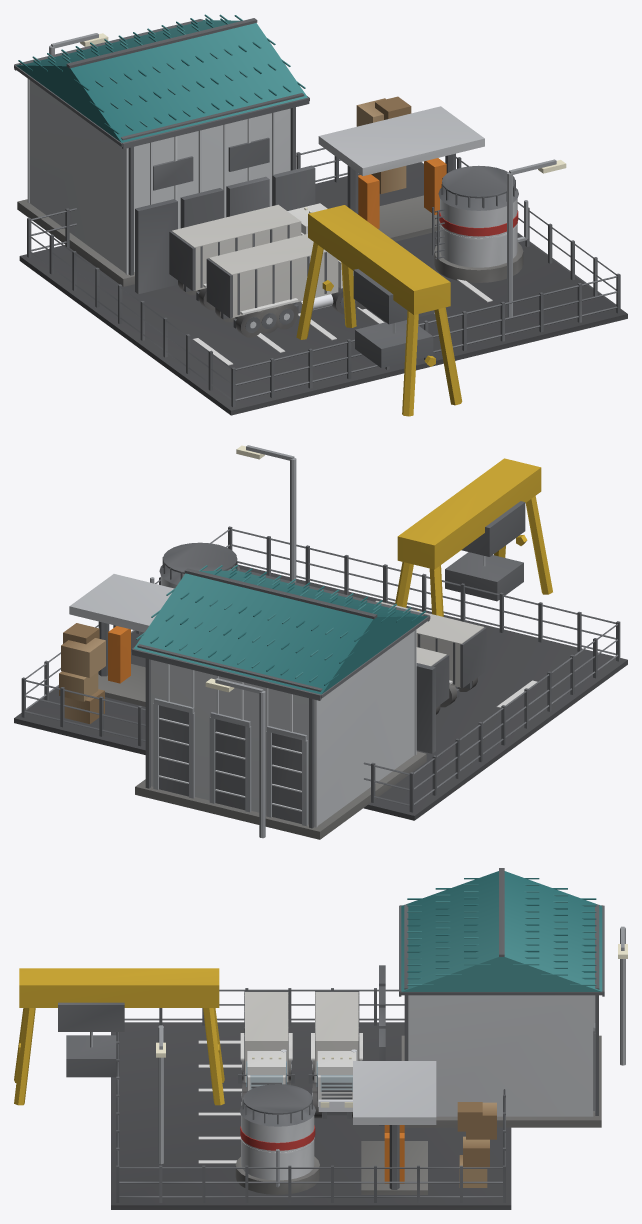
Rendered from Fleet_P3.fbx.
3 renders of one model, top to bottom at view 1: azimuth 30°, elevation 25°; view 2: azimuth 150°, elevation 25°; view 3: azimuth 270°, elevation 25°, orthographic. The views are drawn at different scales.
Visible parts, largest first — view 1: Fleet.Garage, Fleet.Yard, Fleet.WashGantry, Fleet.FuelIsland, Fleet.Parked0, Fleet.Fence, Fleet.FuelTank, Fleet.Doors, Fleet.Parked1, Fleet.Crates, Fleet.Lamp1, Fleet.Bays; view 2: Fleet.Garage, Fleet.Yard, Fleet.WashGantry, Fleet.Fence, Fleet.FuelIsland, Fleet.Crates, Fleet.Parked0, Fleet.FuelTank, Fleet.Doors, Fleet.Lamp0, Fleet.Lamp1, Fleet.Parked1; view 3: Fleet.Garage, Fleet.Yard, Fleet.WashGantry, Fleet.FuelIsland, Fleet.FuelTank, Fleet.Fence, Fleet.Parked1, Fleet.Parked0, Fleet.Crates, Fleet.Lamp1, Fleet.Lamp0, Fleet.Bays (+1 smaller).
Boxes of the visible parts, bbox=[...] form: Fleet.Garage: bbox=[14, 14, 309, 286]; Fleet.Yard: bbox=[19, 162, 627, 415]; Fleet.WashGantry: bbox=[296, 205, 462, 416]; Fleet.FuelIsland: bbox=[318, 106, 484, 241]; Fleet.Parked0: bbox=[206, 234, 367, 337]; Fleet.Fence: bbox=[27, 147, 620, 407]; Fleet.FuelTank: bbox=[432, 165, 528, 282]; Fleet.Doors: bbox=[135, 165, 315, 294]; Fleet.Parked1: bbox=[169, 203, 327, 310]; Fleet.Crates: bbox=[356, 96, 411, 193]; Fleet.Lamp1: bbox=[507, 159, 566, 317]; Fleet.Bays: bbox=[193, 279, 492, 365]; Fleet.Garage: bbox=[131, 565, 430, 839]; Fleet.Yard: bbox=[14, 564, 627, 820]; Fleet.WashGantry: bbox=[395, 458, 552, 616]; Fleet.Fence: bbox=[21, 526, 620, 812]; Fleet.FuelIsland: bbox=[69, 574, 174, 706]; Fleet.Crates: bbox=[59, 623, 105, 723]; Fleet.Parked0: bbox=[375, 600, 486, 707]; Fleet.FuelTank: bbox=[150, 542, 240, 588]; Fleet.Doors: bbox=[416, 663, 435, 753]; Fleet.Lamp0: bbox=[205, 678, 265, 838]; Fleet.Lamp1: bbox=[236, 445, 296, 582]; Fleet.Parked1: bbox=[416, 647, 449, 714]; Fleet.Garage: bbox=[399, 868, 604, 1127]; Fleet.Yard: bbox=[111, 1022, 511, 1209]; Fleet.WashGantry: bbox=[14, 968, 224, 1105]; Fleet.FuelIsland: bbox=[353, 1061, 436, 1194]; Fleet.FuelTank: bbox=[235, 1084, 319, 1194]; Fleet.Fence: bbox=[116, 988, 505, 1202]; Fleet.Parked1: bbox=[308, 991, 362, 1118]; Fleet.Parked0: bbox=[238, 991, 294, 1105]; Fleet.Crates: bbox=[457, 1102, 496, 1187]; Fleet.Lamp1: bbox=[156, 1025, 165, 1164]; Fleet.Lamp0: bbox=[618, 926, 627, 1065]; Fleet.Bays: bbox=[198, 1040, 241, 1163].
Size of the model in its own units: 2600 by 1183 by 3682.
